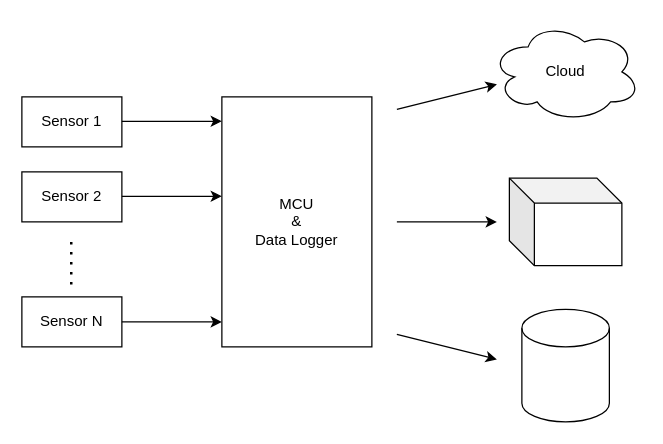
The diagram is 663 pixels wide and 444 high, and some of its shapes have lost their labels. The centre of each missing label's shape, as x and y in pixels:
"Other storage device" goes at [565,365].
"PC" goes at [565,221].
